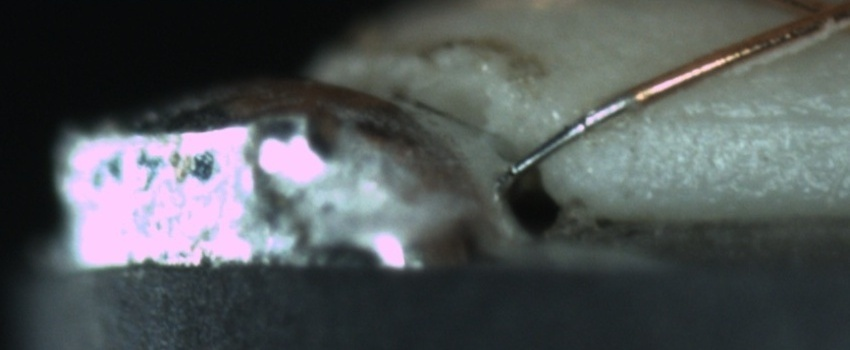CL: (773, 0, 849, 45)
DL: (630, 85, 849, 147)
TS: (511, 93, 638, 179)
TTCW: (511, 75, 672, 178)
